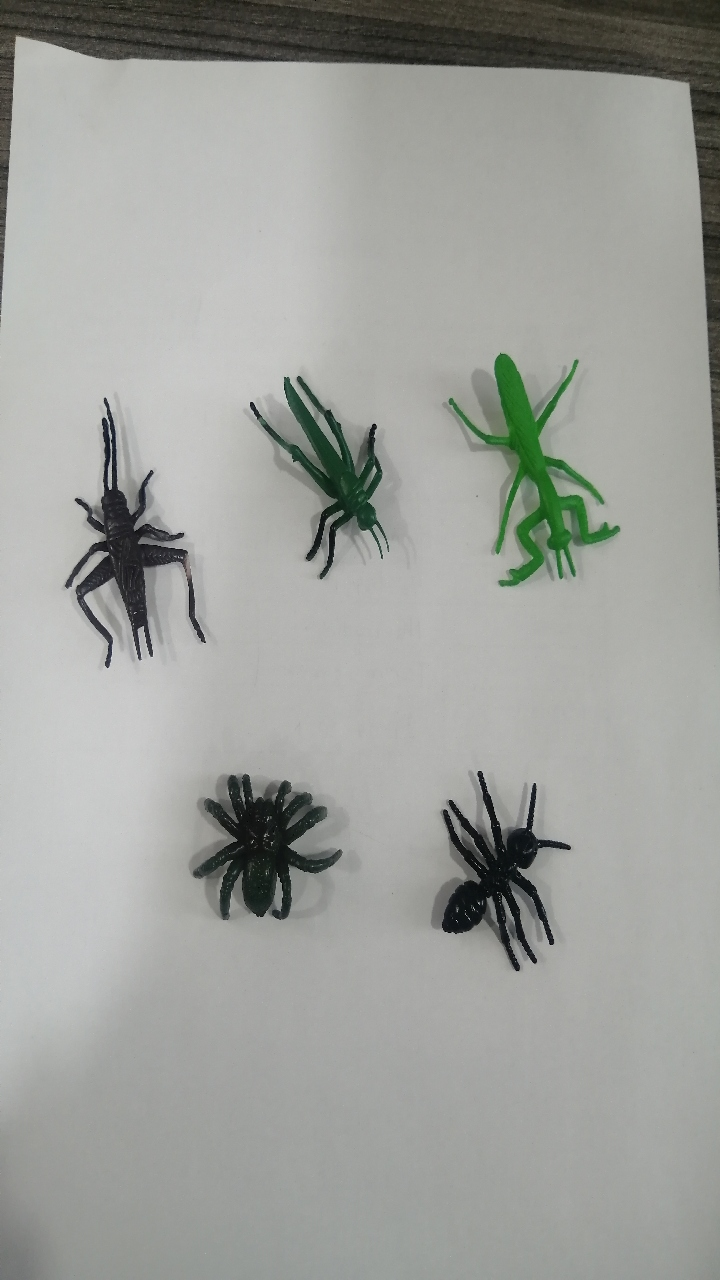intruso: (418, 311, 655, 605), (32, 354, 228, 682), (211, 315, 415, 620), (411, 740, 595, 1020), (166, 740, 386, 972)
